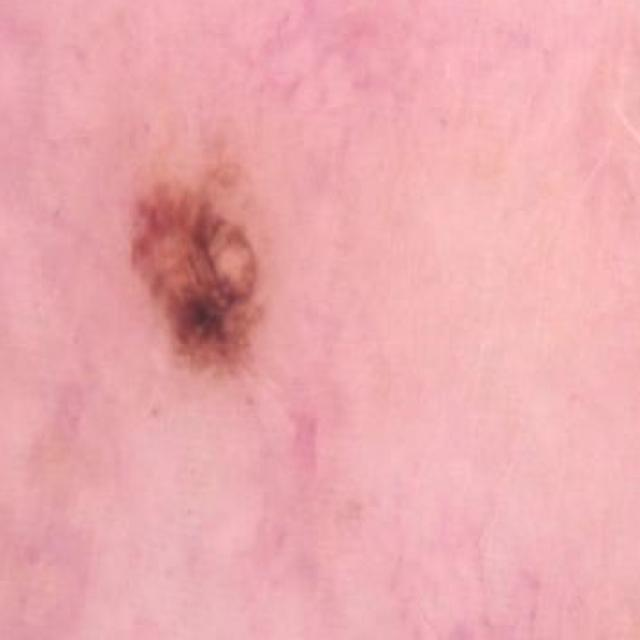NV: (127, 89, 331, 445)
